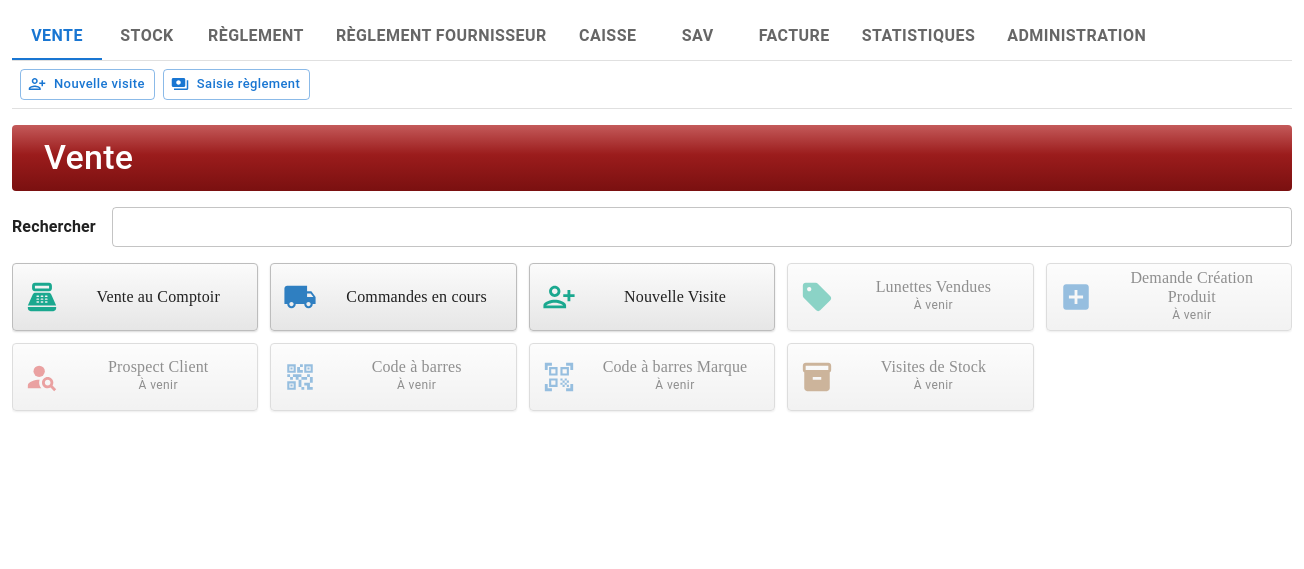
un bouton ouvre son écran, et le retour ramène à la grille
This screenshot has width=1304, height=569.
Click the button "Vente au Comptoir".
click(135, 297)  # box [12, 263, 258, 331]
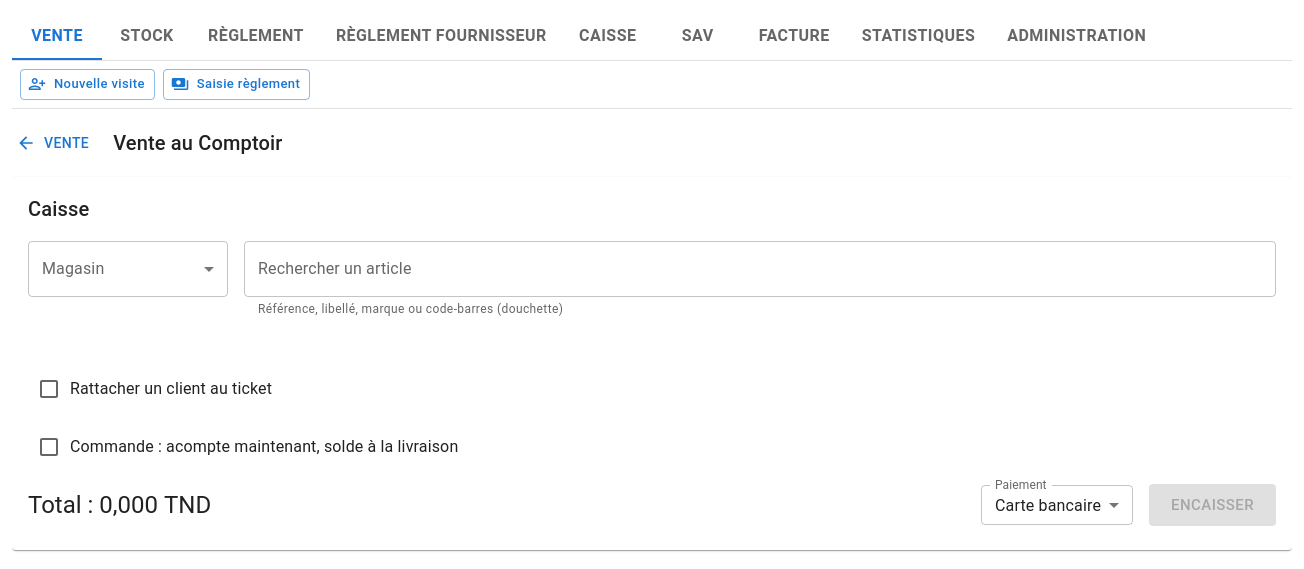
Now the heading "Caisse" is shown, box [28, 197, 89, 221]
Click the button "Vente".
click(55, 143)  # box [12, 125, 97, 161]
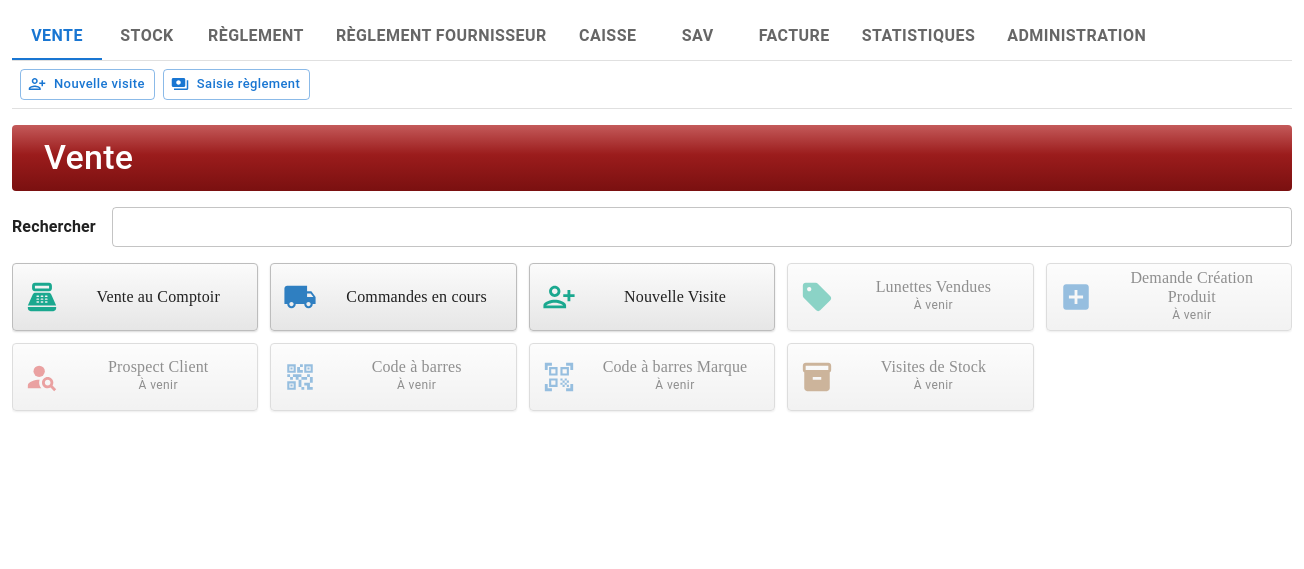
Now the heading "Vente" is shown, box [44, 137, 133, 177]
